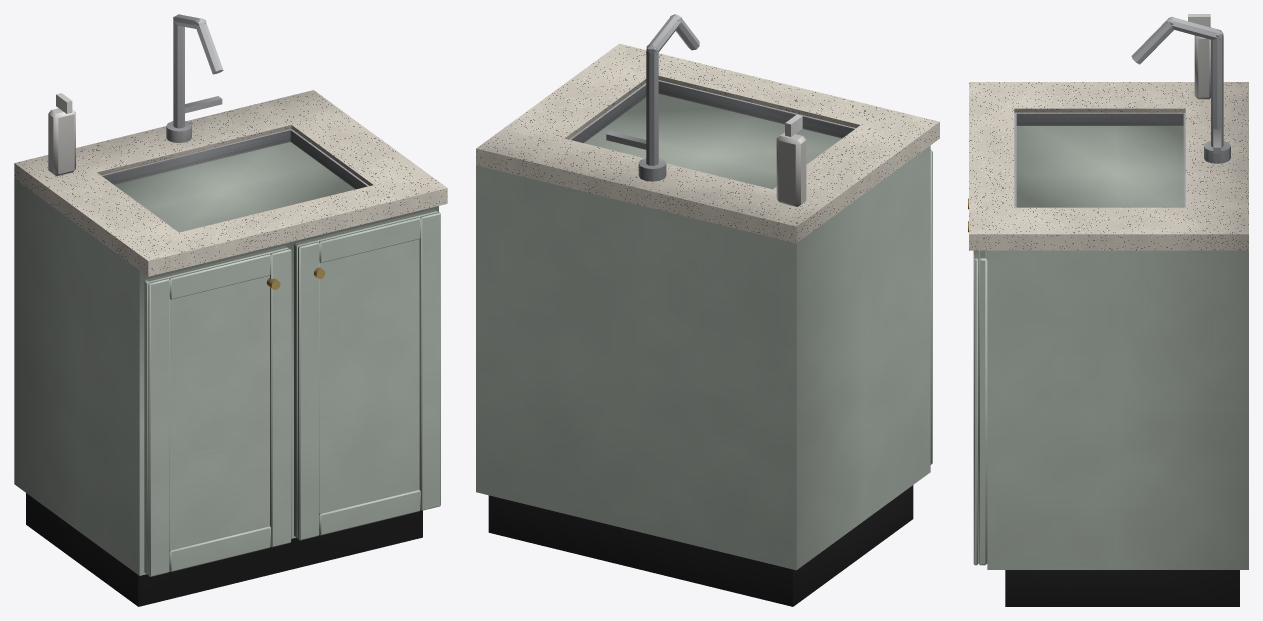
The model's file is counter_sink.glb.
3 renders of one model, left to right at view 1: azimuth 30°, elevation 25°; view 2: azimuth 150°, elevation 25°; view 3: azimuth 270°, elevation 25°, orthographic. The views are drawn at different scales.
Parts seen in each view (by area): view 1: body; view 2: body; view 3: body.
Boxes of the visible parts, x1=… form: body: x1=14, y1=14, x2=447, y2=606; body: x1=476, y1=14, x2=939, y2=606; body: x1=968, y1=14, x2=1248, y2=606.
Size of what is drawn, in the model's own units: 0.8 by 1.27 by 0.6225.
8 materials, 3 textured.
